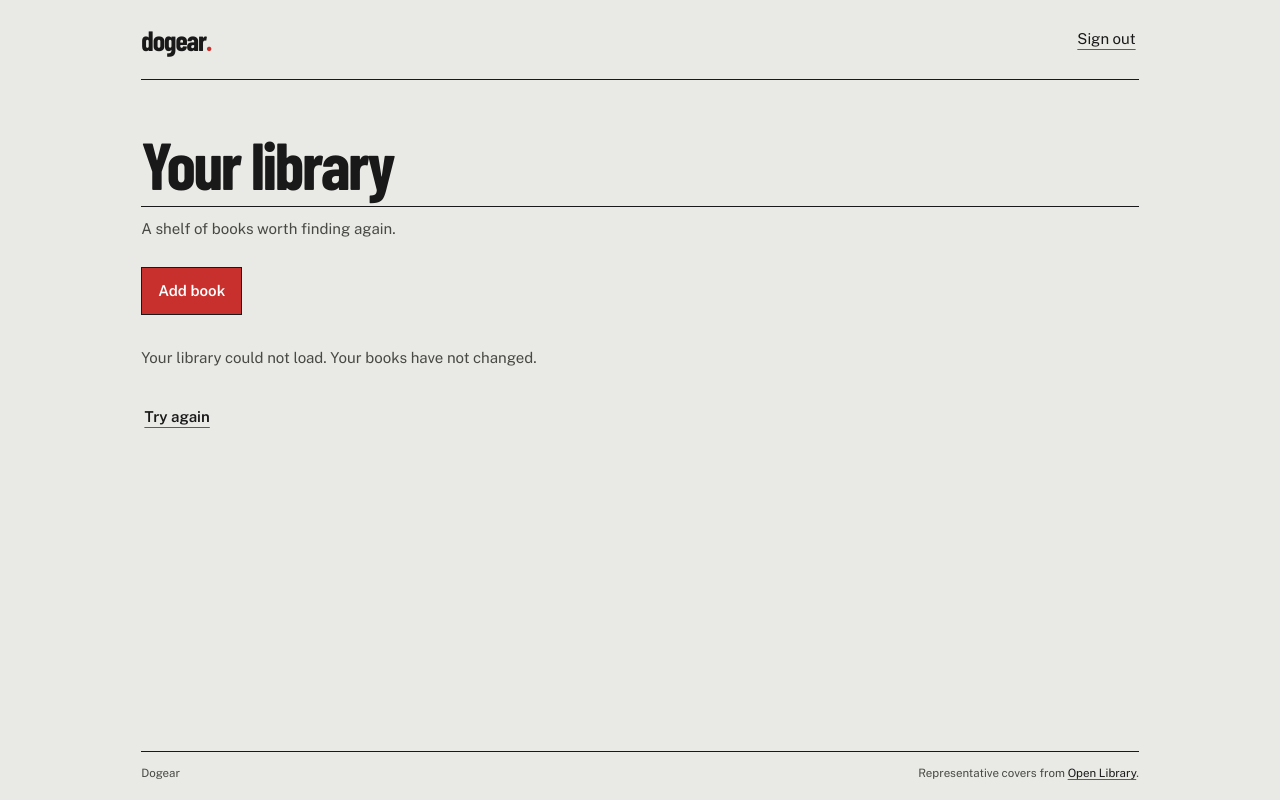
Test: storage errors are recoverable and do not expose server details
This screenshot has width=1280, height=800.
Click the button "Try again".
click(177, 417)  # box [141,395,213,439]
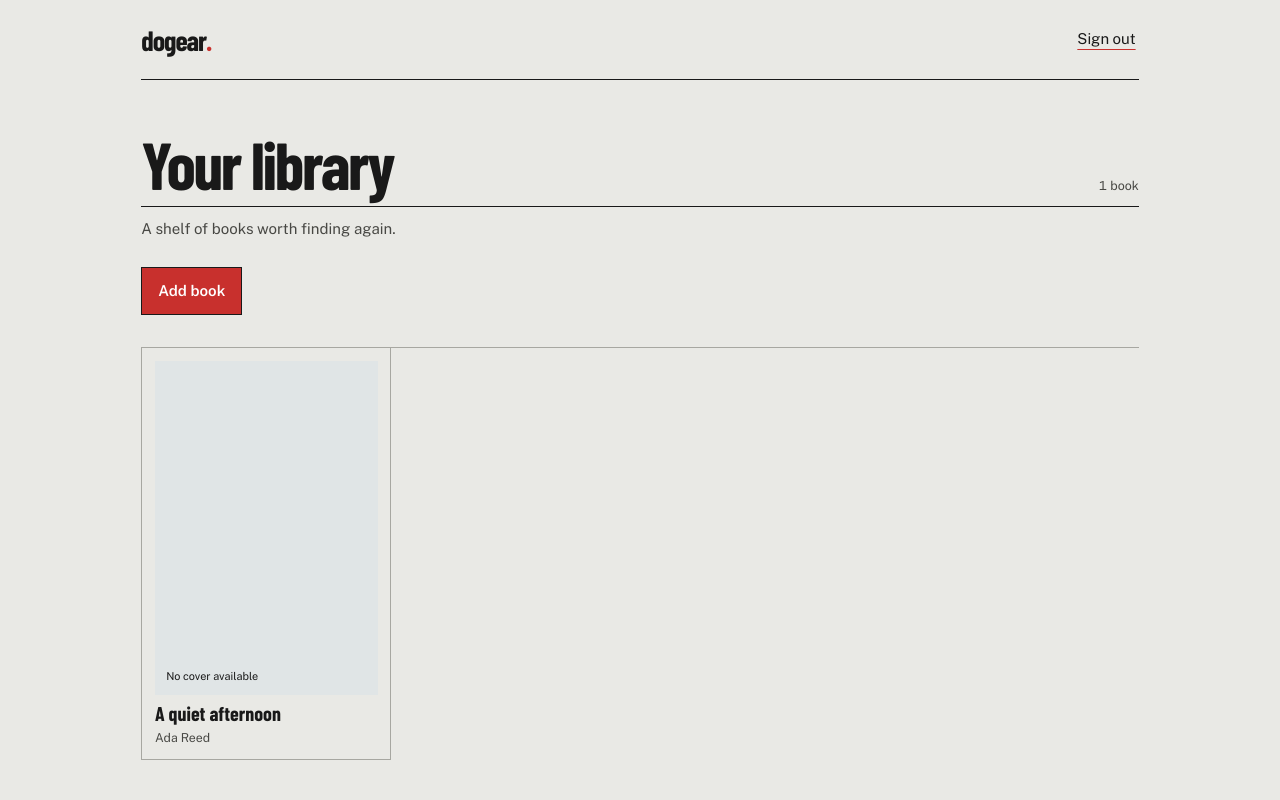
Check: the heading "A quiet afternoon" is shown, box [155,701,281,725]
